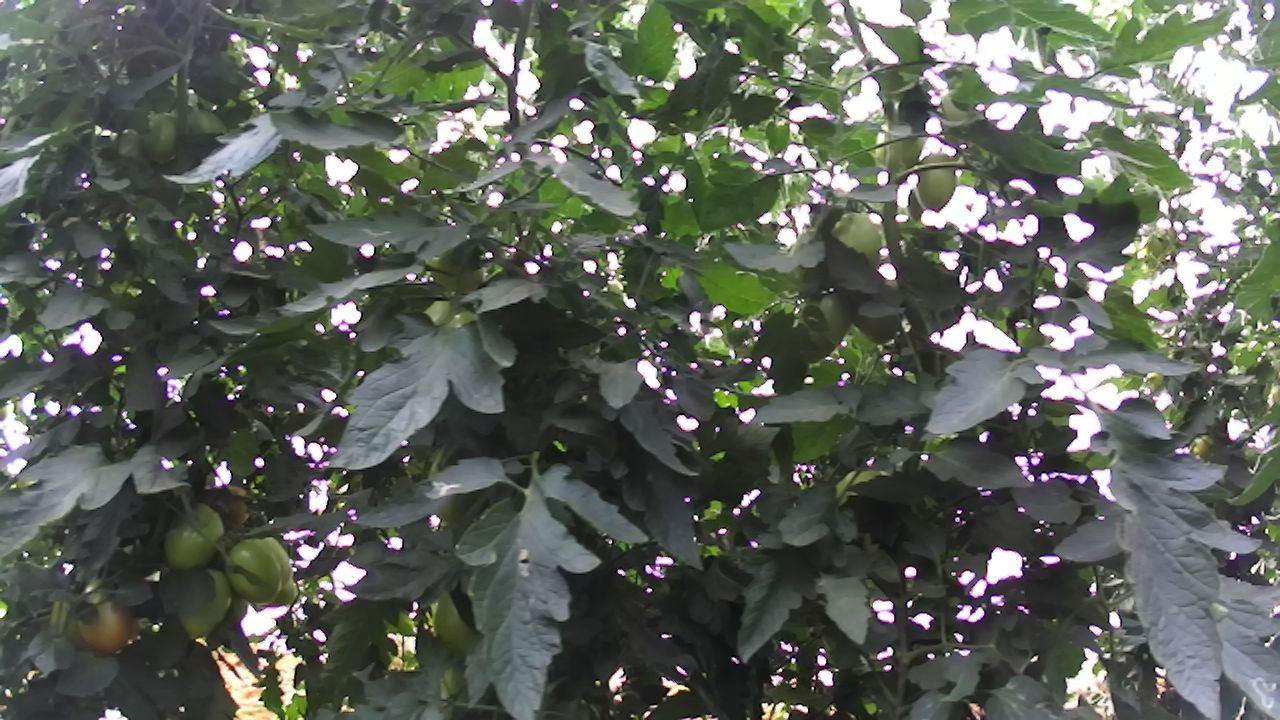tomato: (158, 500, 227, 576), (221, 536, 285, 607), (72, 587, 135, 659), (913, 146, 961, 217)
